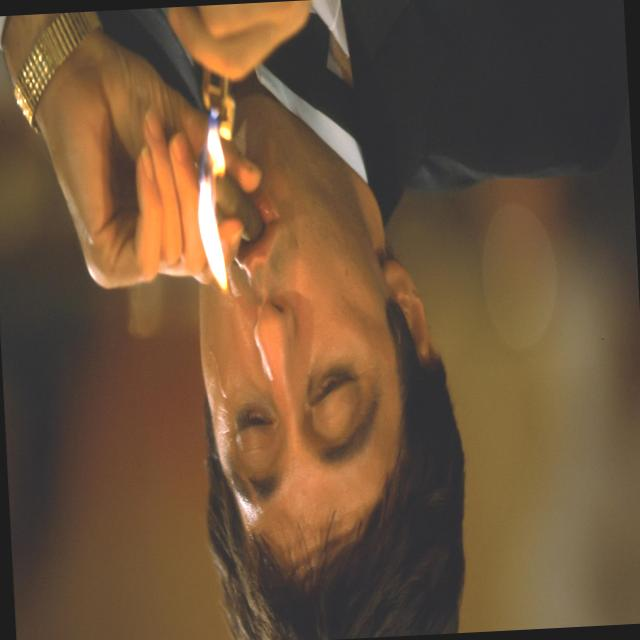smoke: (187, 132, 282, 272)
